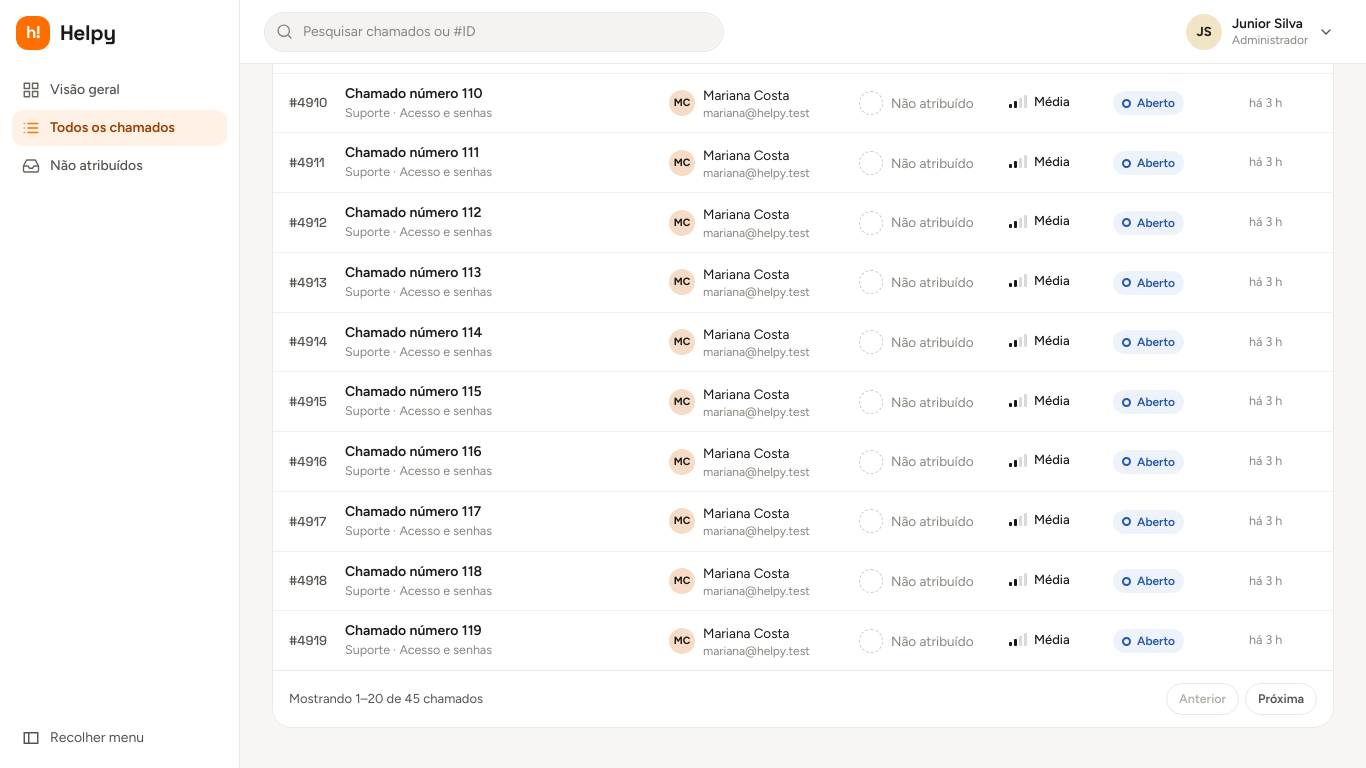
Test: ticket list page › paginates with Anterior/Próxima and a "x de y" label; Anterior is disabled on page 1
The width and height of the screenshot is (1366, 768).
(page scrolled)
Expected: the text "Mostrando 1–20 de 45 chamados" is shown, left=289, top=689, right=483, bottom=709
Expected: the button "Anterior" is disabled, left=1166, top=683, right=1239, bottom=715
Click the button "Próxima" at coordinates (1281, 699), box left=1245, top=683, right=1317, bottom=715
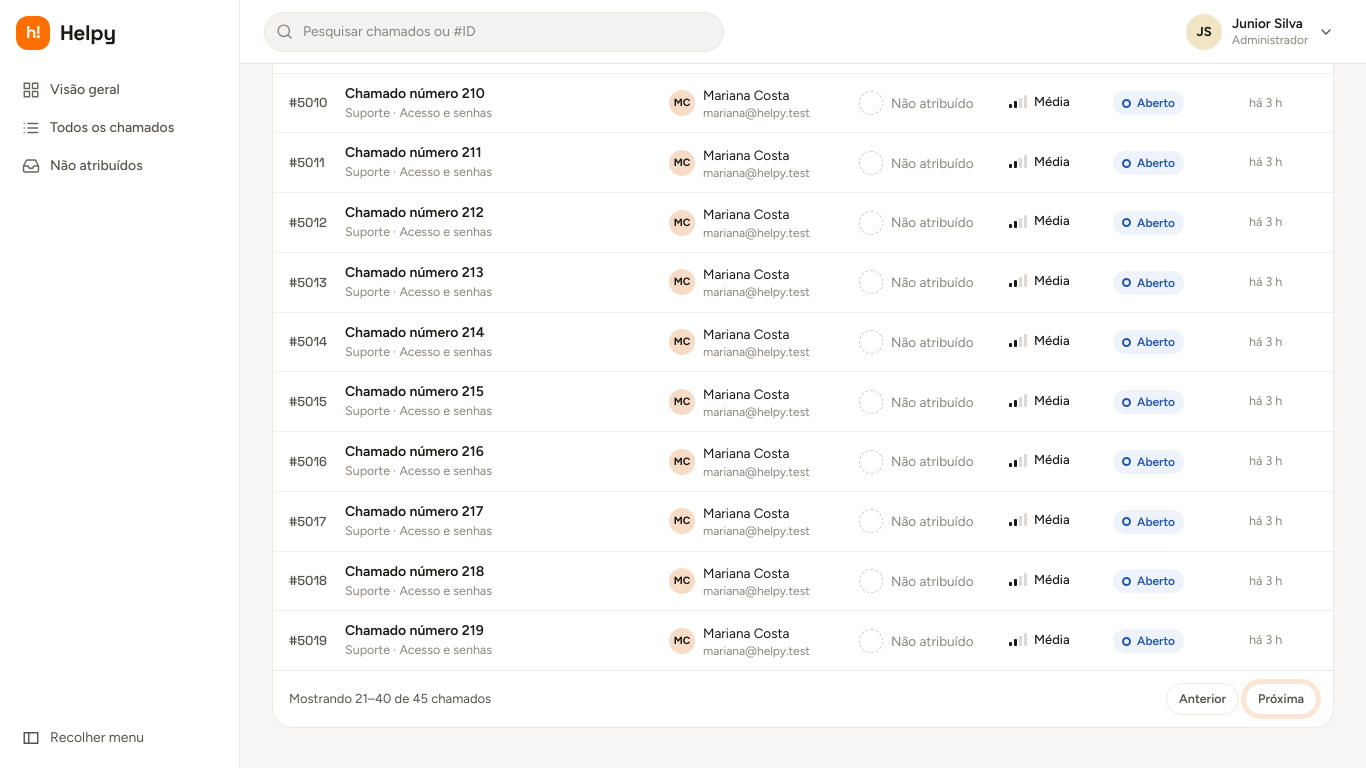
Expected: the text "Mostrando 21–40 de 45 chamados" is shown, left=289, top=689, right=491, bottom=709
Click the button "Próxima" at coordinates (1281, 699), box left=1245, top=683, right=1317, bottom=715
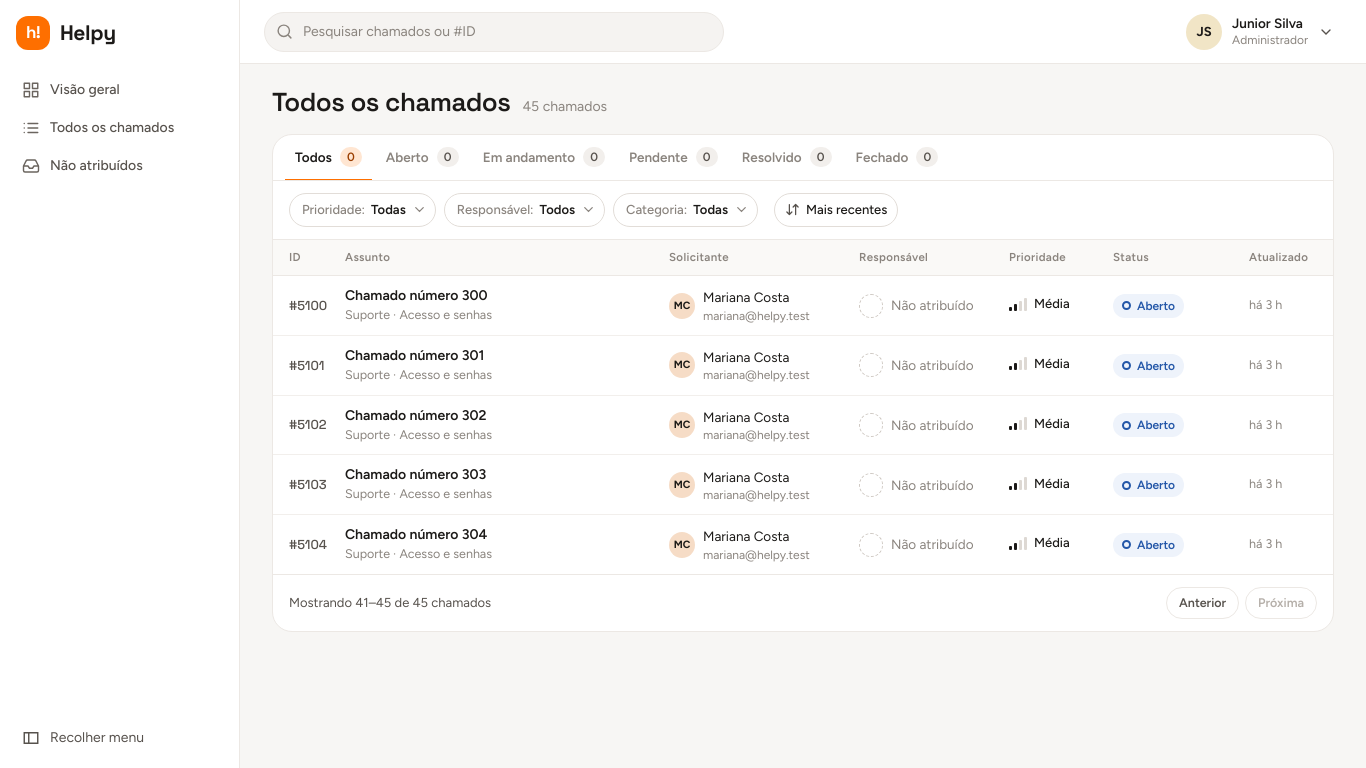
Expected: the button "Anterior" is enabled
Expected: the text "Mostrando 41–45 de 45 chamados" is shown, left=289, top=593, right=491, bottom=613
Expected: the button "Próxima" is disabled, left=1245, top=587, right=1317, bottom=619
Click the button "Anterior" at coordinates (1203, 603), box left=1166, top=587, right=1239, bottom=619
(page scrolled)
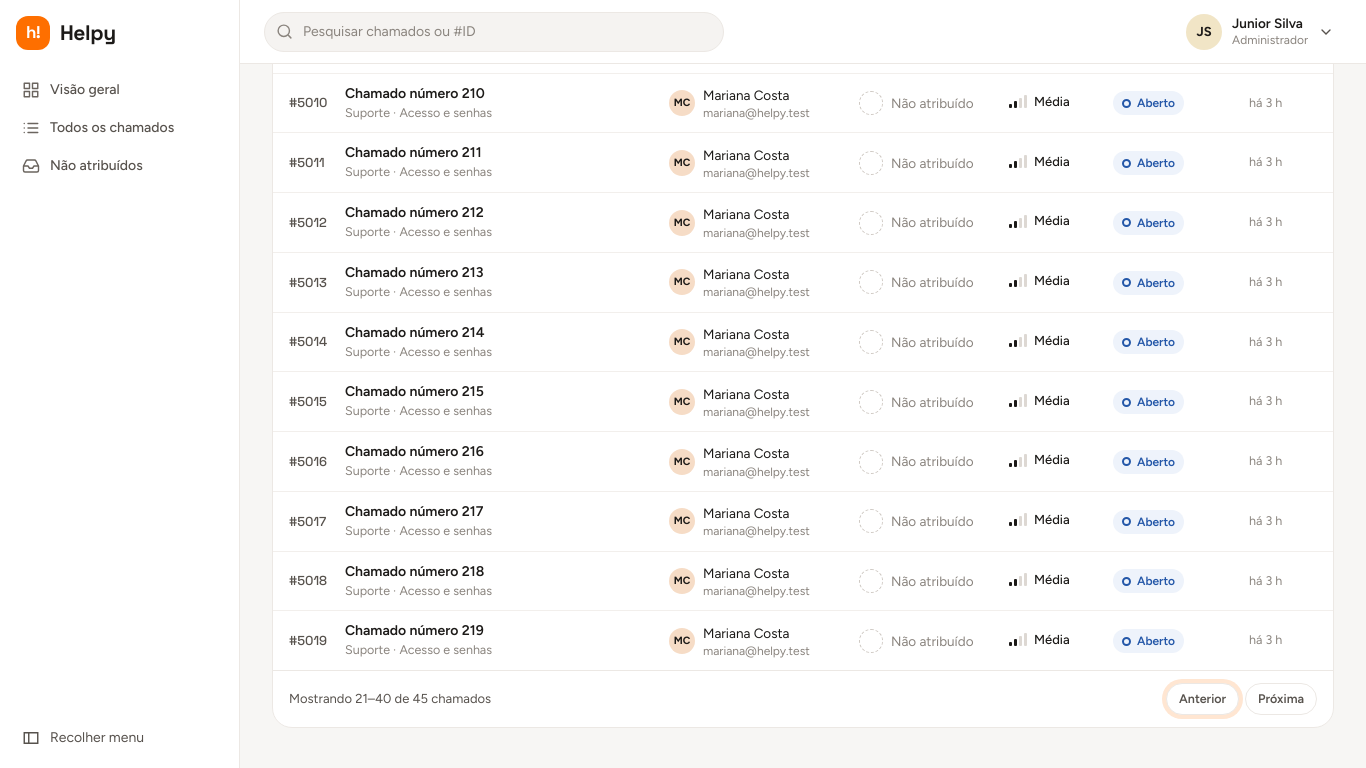
Expected: the text "Mostrando 21–40 de 45 chamados" is shown, left=289, top=689, right=491, bottom=709
